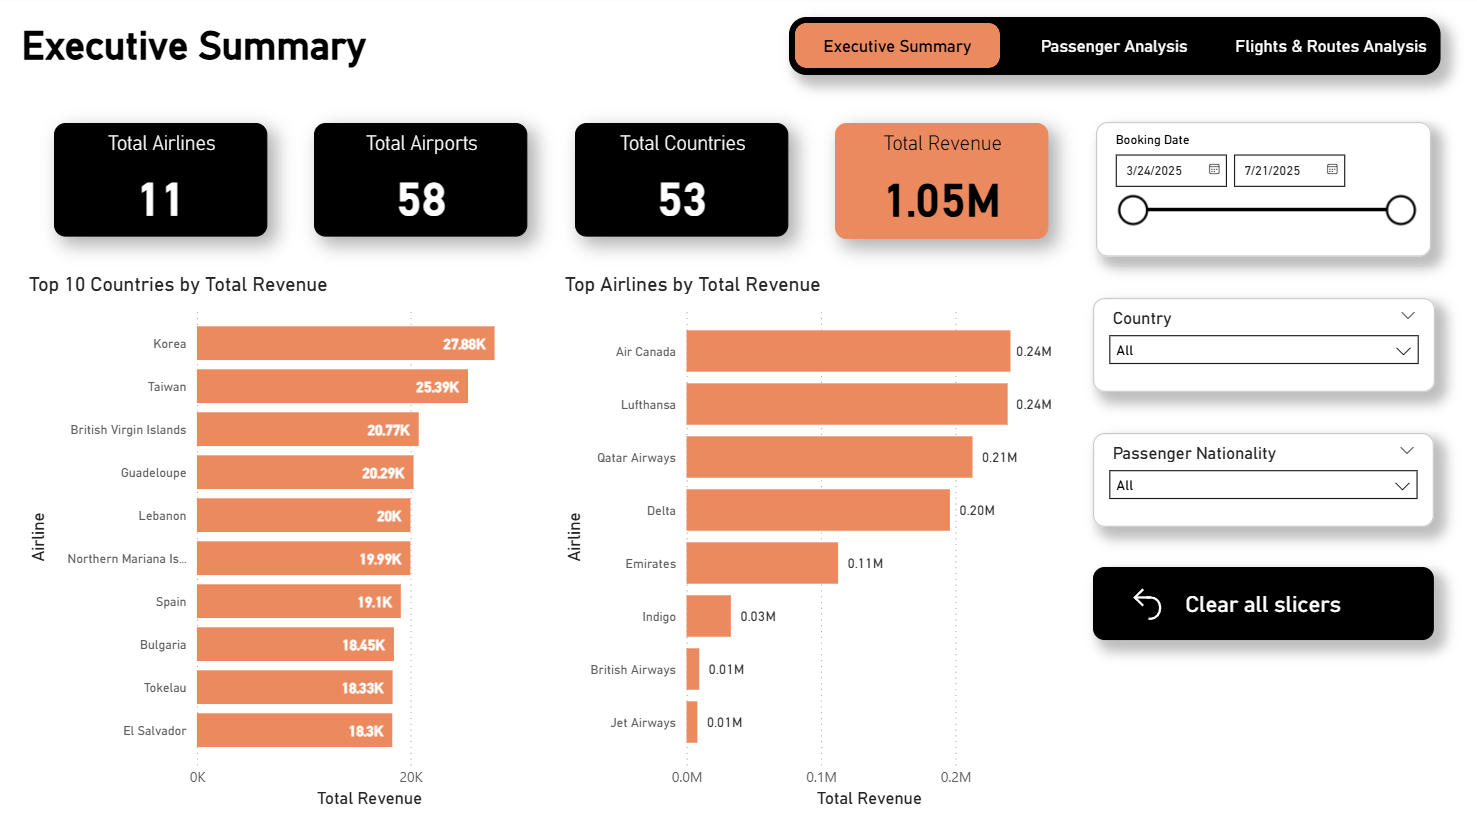

What the dashboard file says about the page in this screenshot:
{"tool":"powerbi","page":{"name":"Executive Summary","canvas":[1280,720],"ordinal":0},"visuals":[{"type":"card","title":"Total Airlines","fields":{"Values":["Count(dim_flights.airline)"]},"box":[49.7,109.4,184,98.5],"z":0},{"type":"card","title":"Total Countries","fields":{"Values":["Count(dim_airports.country)"]},"box":[499.3,109.4,184,98.5],"z":1000},{"type":"card","title":"Total Airports","fields":{"Values":["Count(dim_airports.airport_id)"]},"box":[274.5,109.4,184,98.5],"z":2000},{"type":"card","title":"Total Revenue","fields":{"Values":["Sum(fact_bookings.amount)"]},"box":[724,109.4,184,100.5],"z":3000},{"type":"barChart","title":"Top Airlines by Total Revenue","fields":{"Y":["Sum(fact_bookings.amount)"],"Category":["dim_flights.airline"]},"box":[485.6,238.4,444.3,467.1],"z":4000},{"type":"barChart","title":"Top 10 Countries by Total Revenue","fields":{"Category":["dim_passengers.nationality"],"Y":["Sum(fact_bookings.amount)"]},"box":[22.9,238.4,462.7,467.1],"z":5000},{"type":"slicer","fields":{"Values":["dim_airports.country"]},"box":[946.1,260.4,294.7,80.9],"z":6000},{"type":"slicer","fields":{"Values":["dim_flights.destination"]},"box":[946.5,376.5,293.8,80.9],"z":7000},{"type":"slicer","title":"Booking Time","fields":{"Values":["fact_bookings.booking_date"]},"box":[949.2,109.1,288.5,116.1],"z":8000},{"type":"pageNavigator","box":[683.6,18.3,561.5,49.7],"z":10000},{"type":"textbox","box":[16.9,17.9,433.6,49.7],"z":11000},{"type":"actionButton","title":"Clea","box":[946.6,492.7,293.7,63.2],"z":11001}]}

Visuals, with their boxes in screenshot pixels (x1, y1, x2, y2), scaled from the page's 1280x720 canvas onto the 1477x828 screenshot:
"Total Airlines" card: box=[57, 126, 270, 239]
"Total Countries" card: box=[576, 126, 788, 239]
"Total Airports" card: box=[317, 126, 529, 239]
"Total Revenue" card: box=[835, 126, 1048, 241]
"Top Airlines by Total Revenue" barChart: box=[560, 274, 1073, 811]
"Top 10 Countries by Total Revenue" barChart: box=[26, 274, 560, 811]
slicer - dim_airports.country: box=[1092, 299, 1432, 392]
slicer - dim_flights.destination: box=[1092, 433, 1431, 526]
"Booking Time" slicer: box=[1095, 125, 1428, 259]
pageNavigator: box=[789, 21, 1437, 78]
textbox: box=[20, 21, 520, 78]
"Clea" actionButton: box=[1092, 567, 1431, 639]
